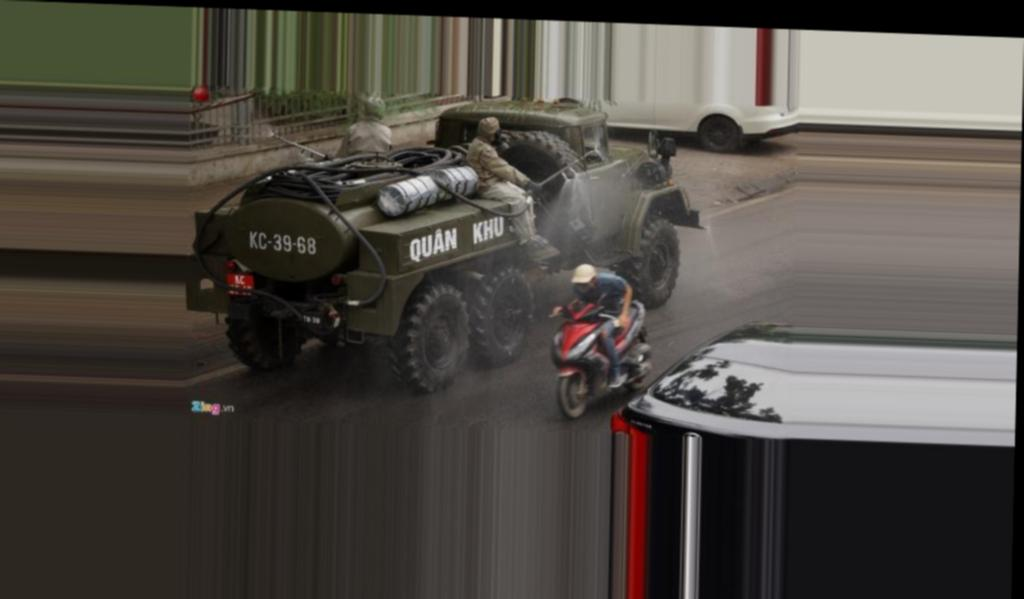License_Plate: (223, 273, 259, 304)
